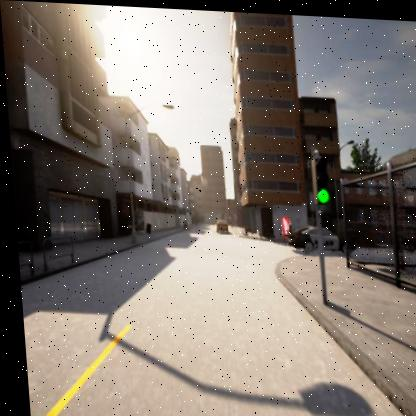vehicle: (282, 221, 338, 250), (212, 216, 225, 231)
